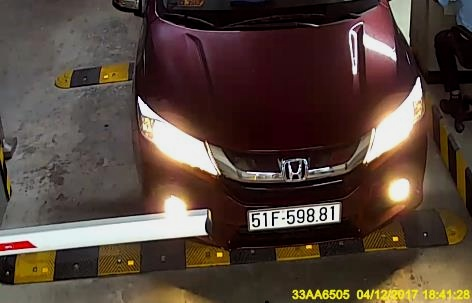plate: (240, 199, 343, 230)
